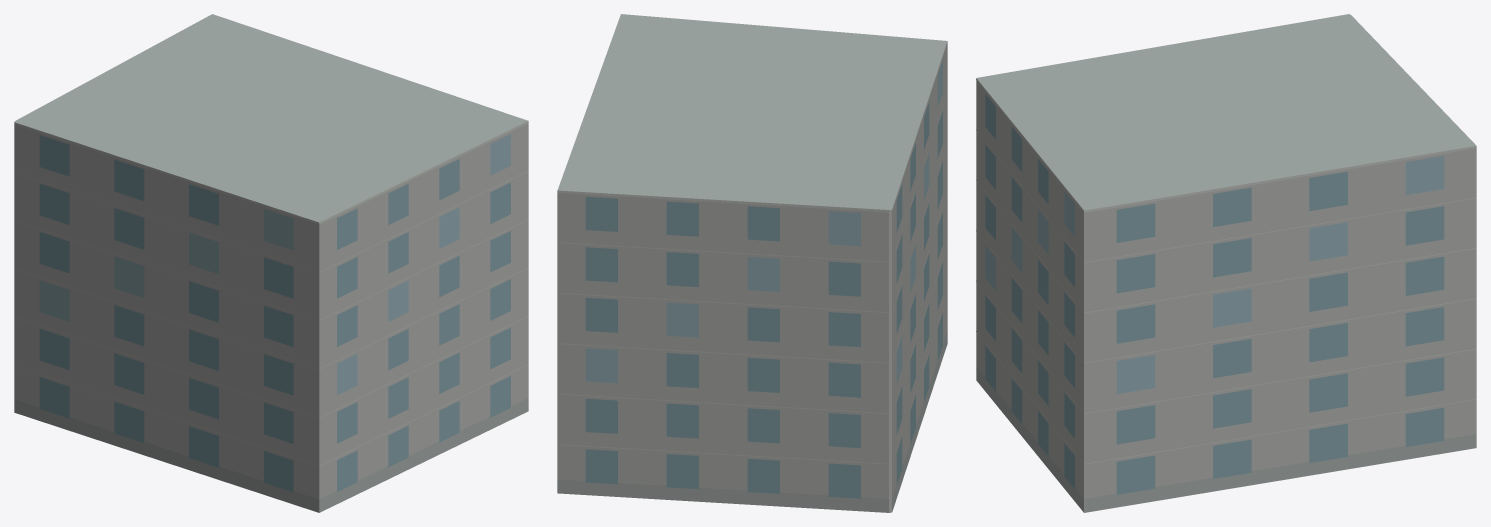
The model's file is survey-upis-32991031.glb.
3 views of the same model, side by side, from view 1: azimuth 30°, elevation 25°; view 2: azimuth 150°, elevation 25°; view 3: azimuth 270°, elevation 25° (orthographic). The views are drawn at different scales.
Visible parts, largest first — view 1: survey-upis-32991031.tmp; view 2: survey-upis-32991031.tmp; view 3: survey-upis-32991031.tmp.
Boxes of the visible parts, left/top/right/bottom form: survey-upis-32991031.tmp: left=14, top=14, right=528, bottom=512; survey-upis-32991031.tmp: left=557, top=14, right=947, bottom=512; survey-upis-32991031.tmp: left=976, top=14, right=1476, bottom=512.
Bounding box in the file's own units: 42.09 × 30.15 × 45.26.
